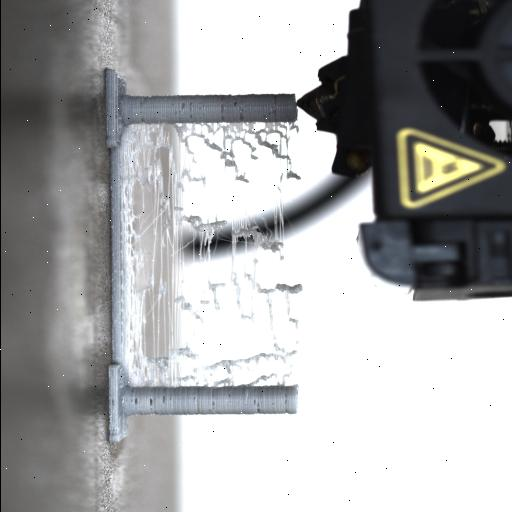stringing: (131, 120, 295, 386)
